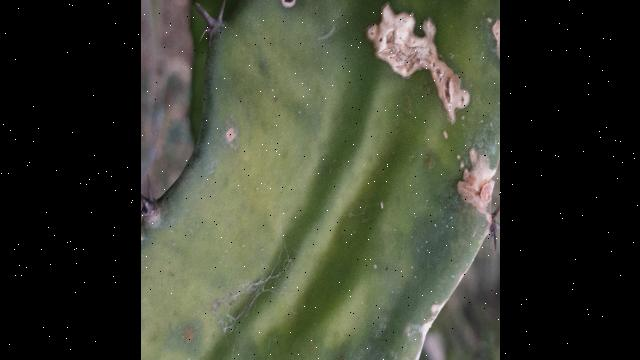stemcanker: (361, 3, 473, 124), (455, 143, 500, 218), (216, 125, 242, 148)
